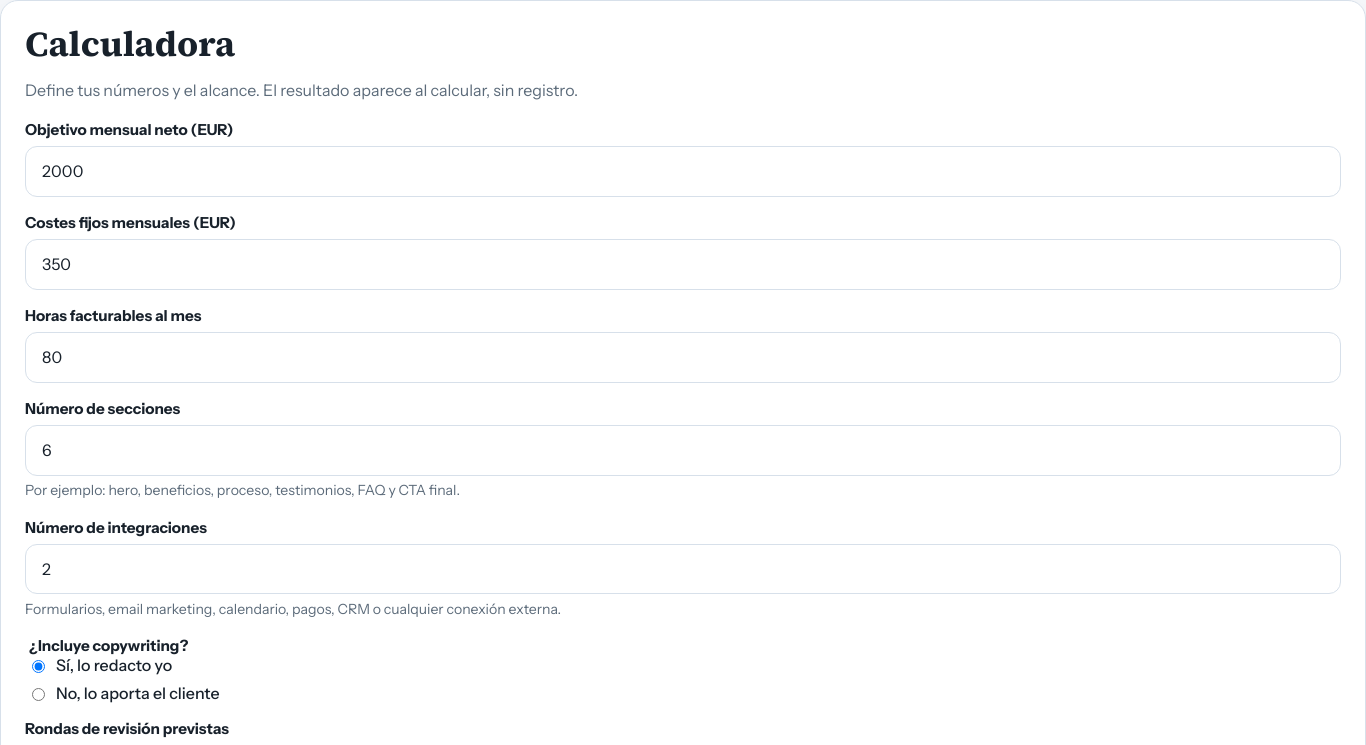
Test: CalculatorForm › normalizes a pasted Spanish currency amount
Click the number field labelled "Objetivo mensual neto (EUR)" at (683, 171), box [25, 146, 1341, 197]
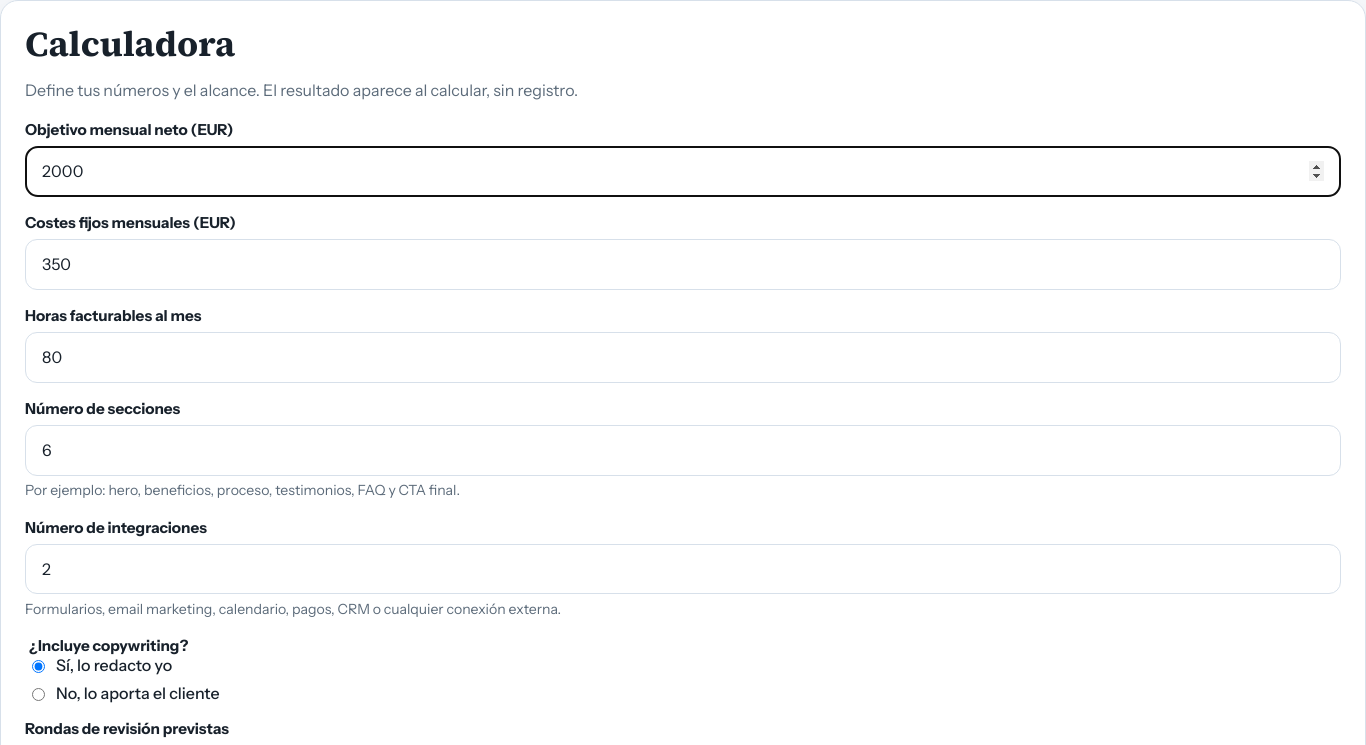
Type keys "2.500,50 €"
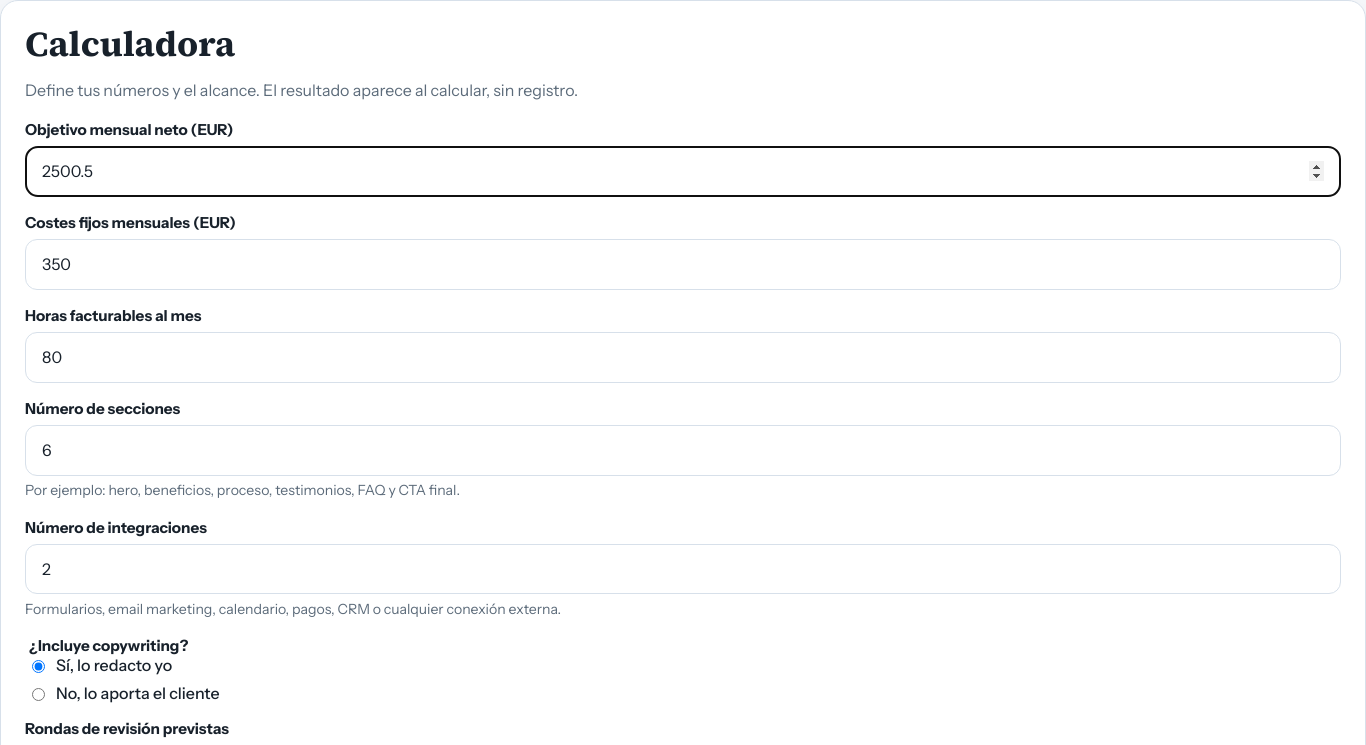
Result: the number field labelled "Objetivo mensual neto (EUR)" holds "2500.5" at [25, 146, 1341, 197]
